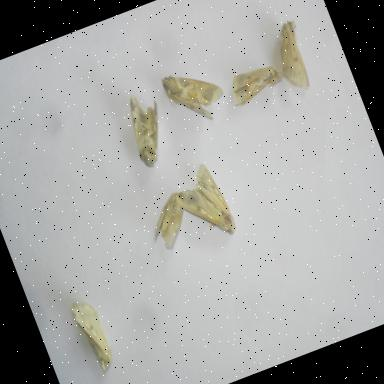abw: (164, 157, 242, 252), (156, 56, 234, 134), (114, 83, 180, 173), (260, 15, 322, 100), (64, 292, 122, 380), (138, 186, 204, 258), (222, 56, 291, 112)
